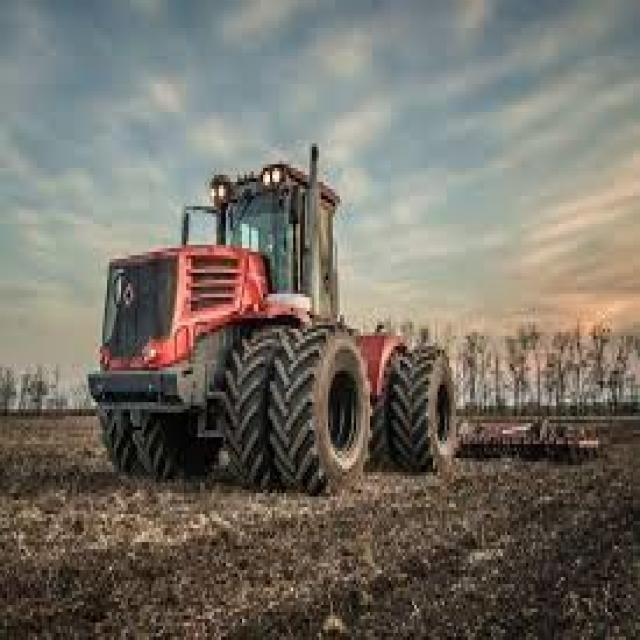Tratores - v5 YOLO V8L 2024-11-13: (86, 160, 458, 480)
